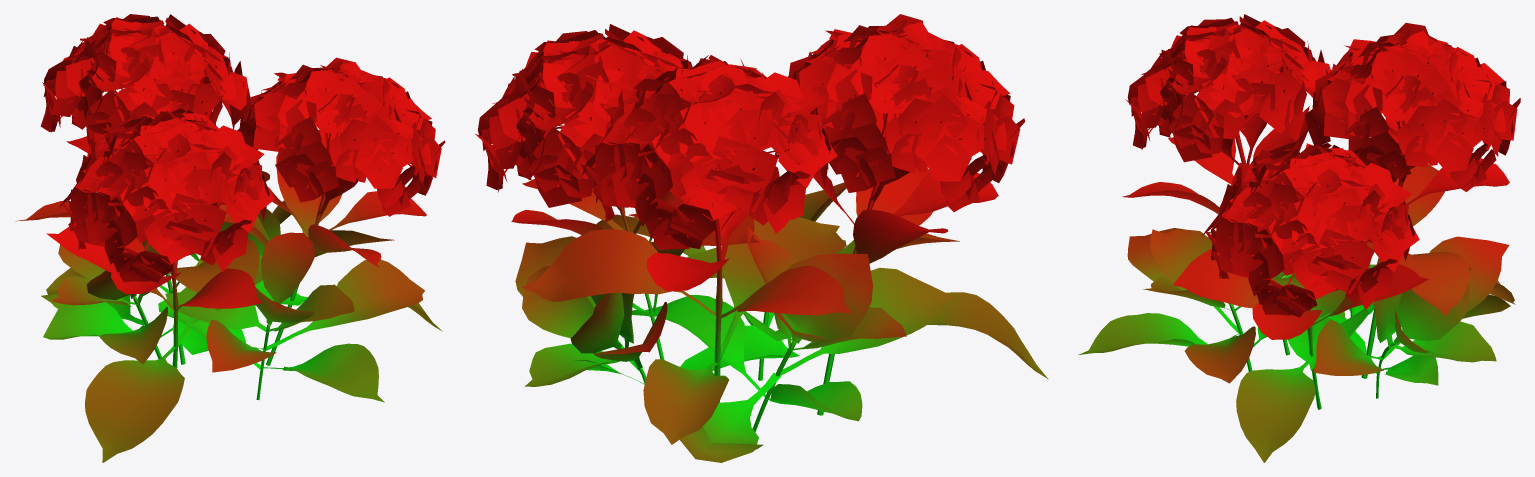
The model's file is Var8_LOD1.fbx.
3 renders of one model, left to right at view 1: azimuth 30°, elevation 25°; view 2: azimuth 150°, elevation 25°; view 3: azimuth 270°, elevation 25°, orthographic. The views are drawn at different scales.
Parts seen in each view (by area): view 1: _665w_Var8_LOD1; view 2: _665w_Var8_LOD1; view 3: _665w_Var8_LOD1.
Part boxes in pixels (x1,y1,x2,y2): _665w_Var8_LOD1: [15, 14, 445, 462]; _665w_Var8_LOD1: [475, 14, 1048, 462]; _665w_Var8_LOD1: [1078, 14, 1520, 462].
Size of the model in its own units: 41.95 by 32.62 by 39.9.
